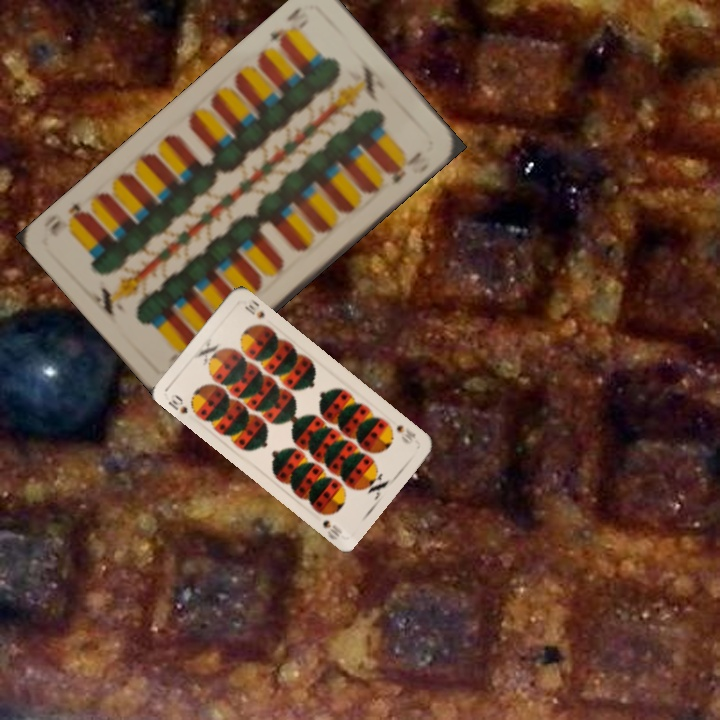E10: (265, 2, 308, 50)
S10: (164, 390, 191, 416), (392, 421, 419, 446)
